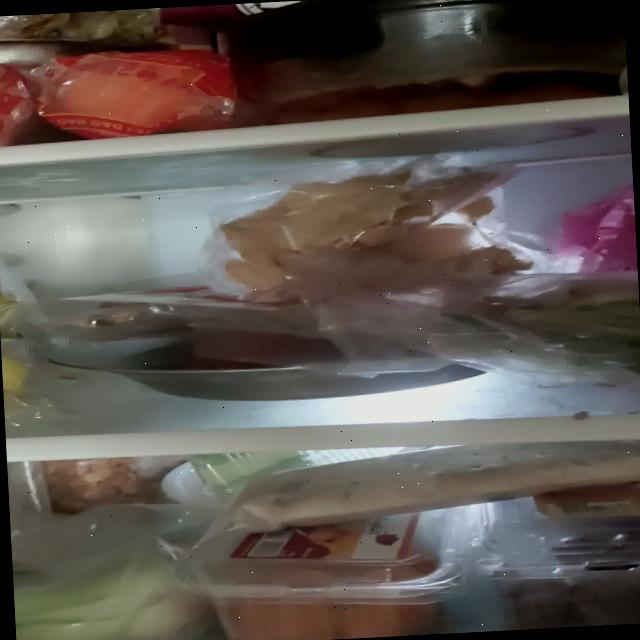orange: (35, 46, 240, 142)
tempeh: (227, 435, 640, 533)
